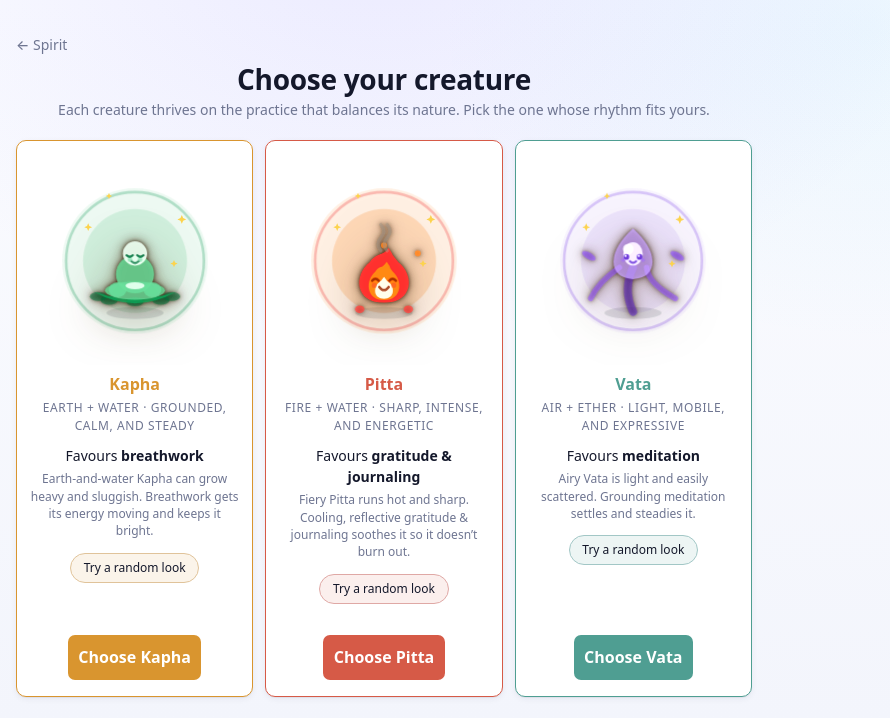
Test: SpiritChoosePage › shows the chosen creature and its favoured-practice reason on the name step
This screenshot has width=890, height=718.
Click the button "Choose Pitta" at (384, 657), box left=323, top=635, right=445, bottom=680
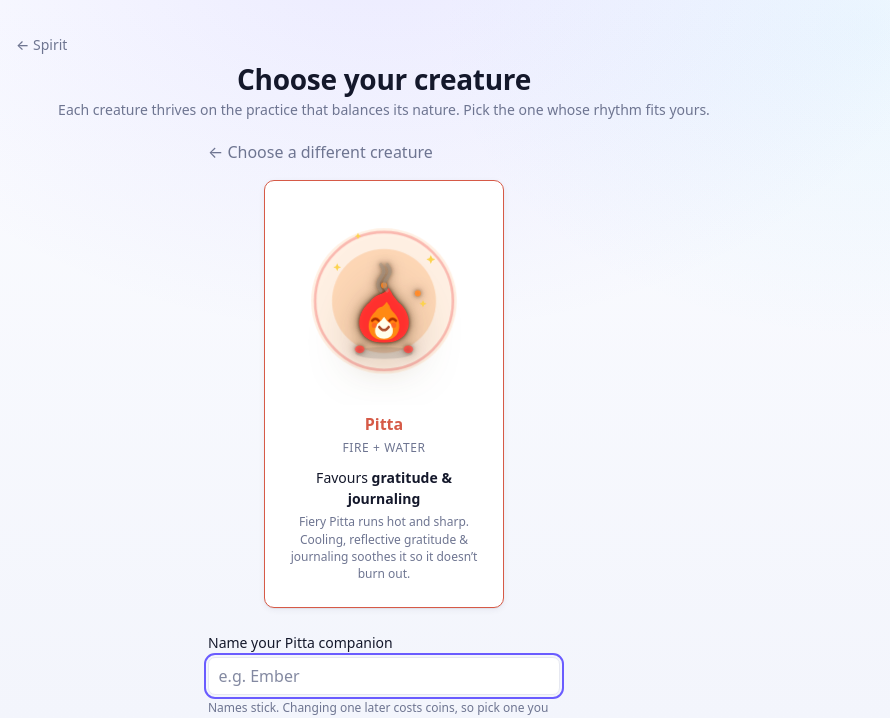
Expected: the text "Favours gratitude & journaling" is shown, left=316, top=468, right=452, bottom=508
Expected: the field with placeholder "e.g. Ember" is shown, left=208, top=657, right=560, bottom=695
